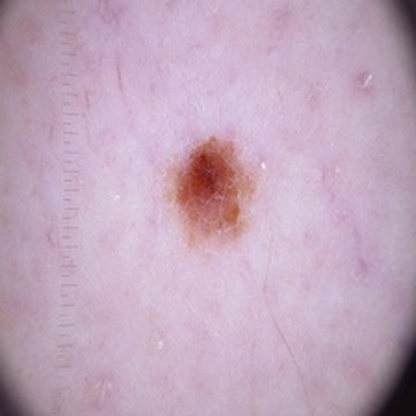malignant: (176, 144, 246, 234)
